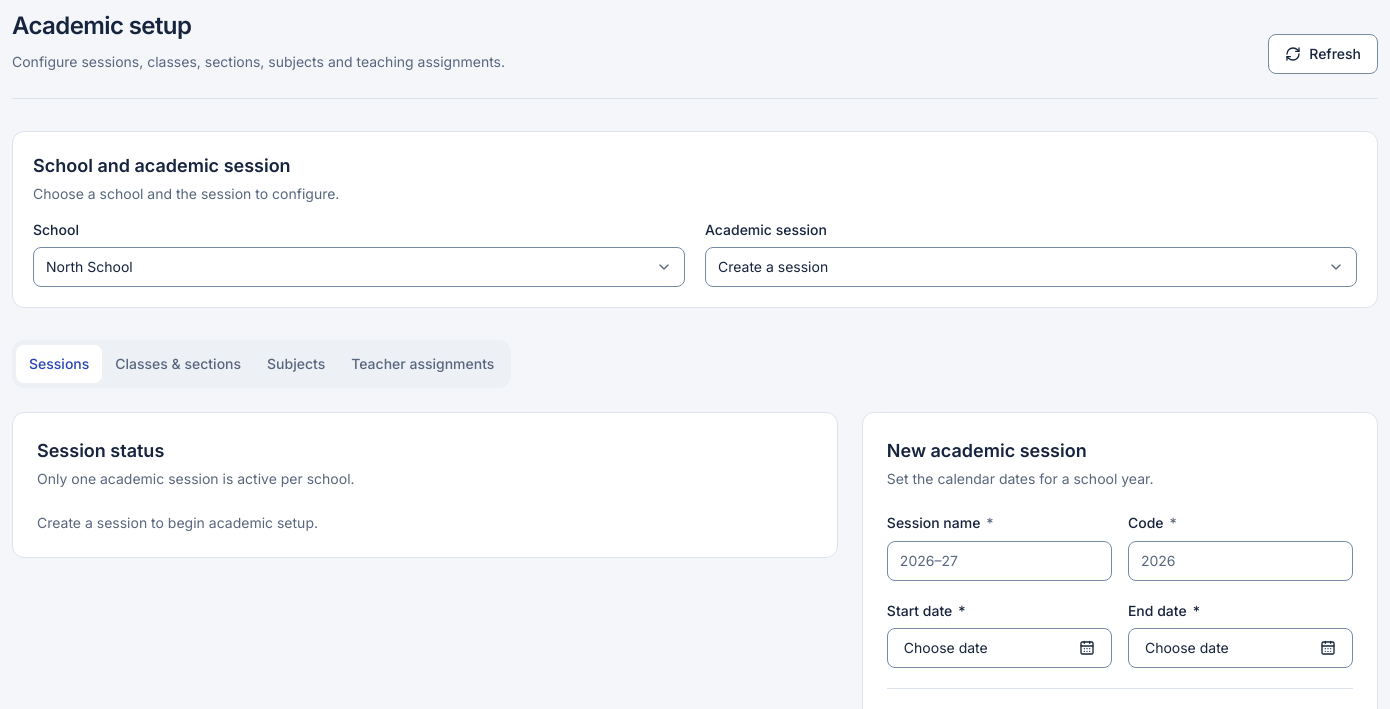
Scenario: academic setup task areas › offers readable empty records while keeping archived configuration read-only
Click the dropdown named "Academic session": [773, 267] box [705,247,1357,287]
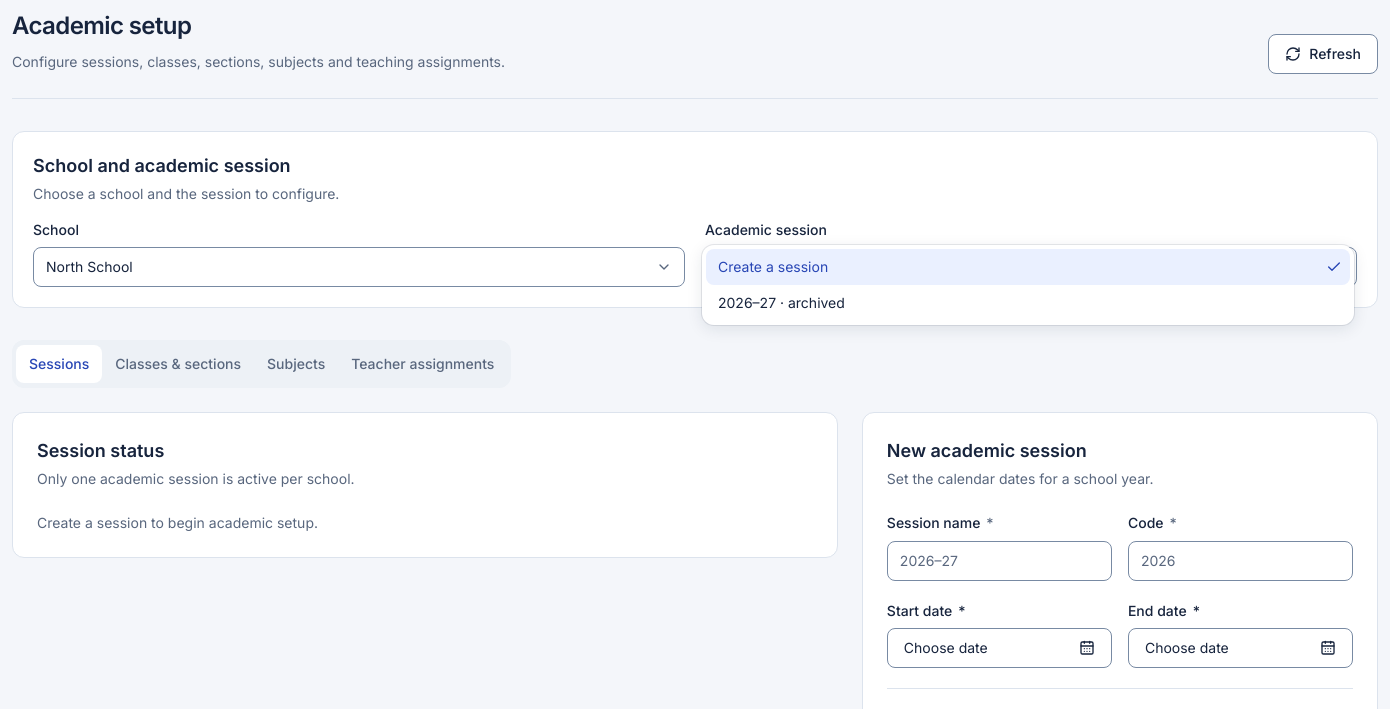
Click the option "2026–27 · archived": [781, 303] box [718,294,845,311]
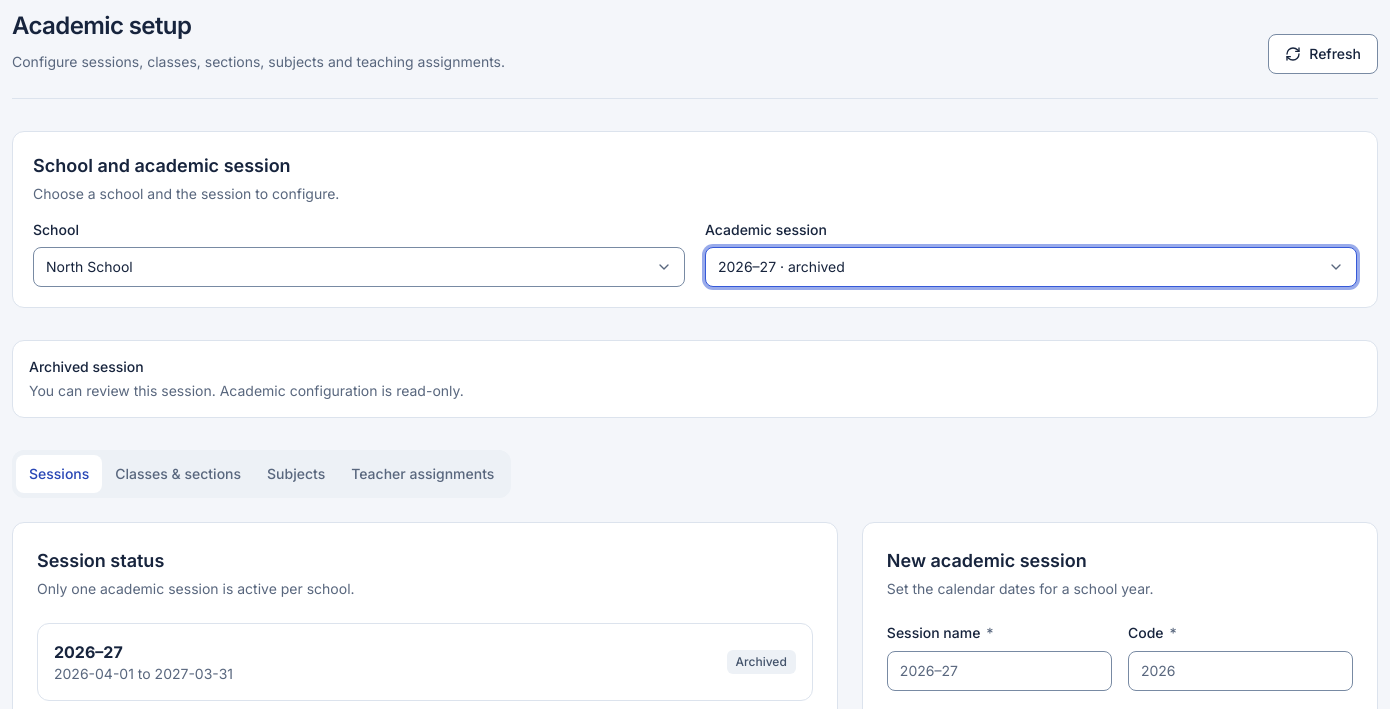
Click the tab "Classes & sections": [178, 474] box [102,455,254,493]
(page scrolled)
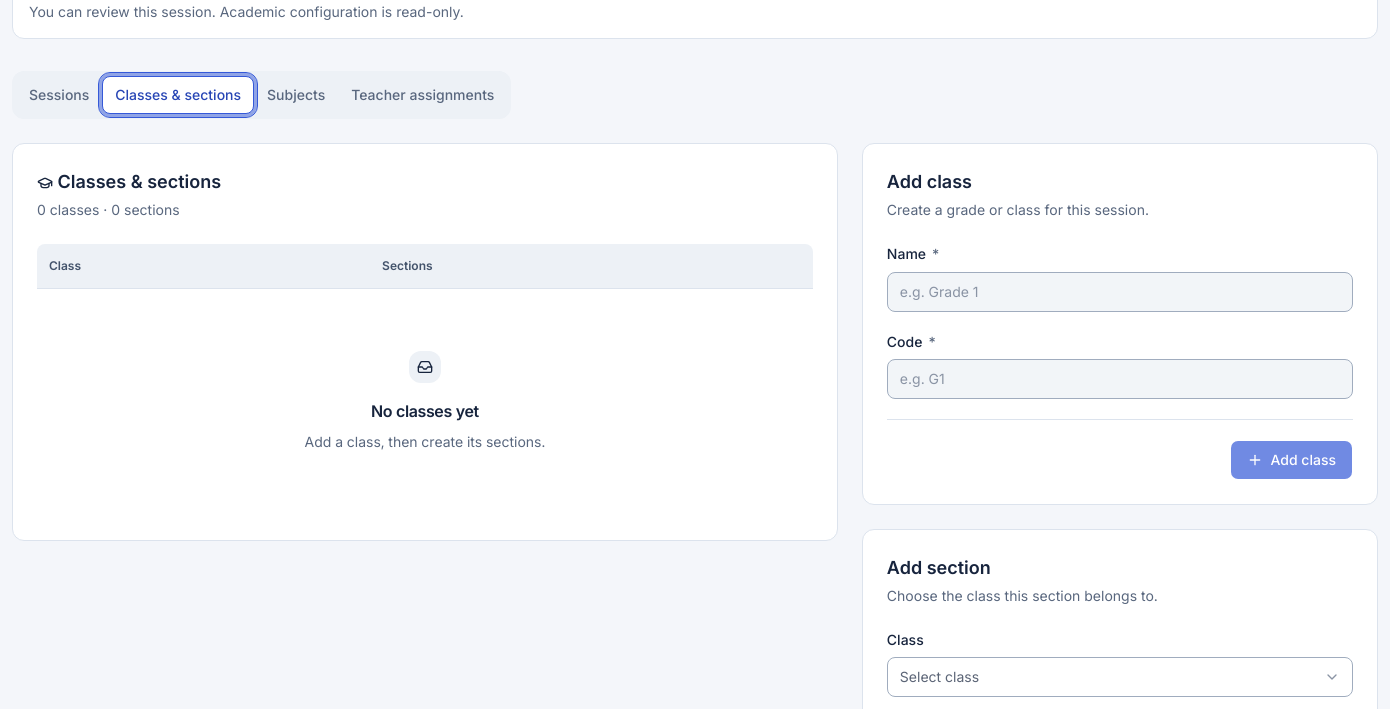
Expected: the heading "No classes yet" is shown, [371,399,479,423]
